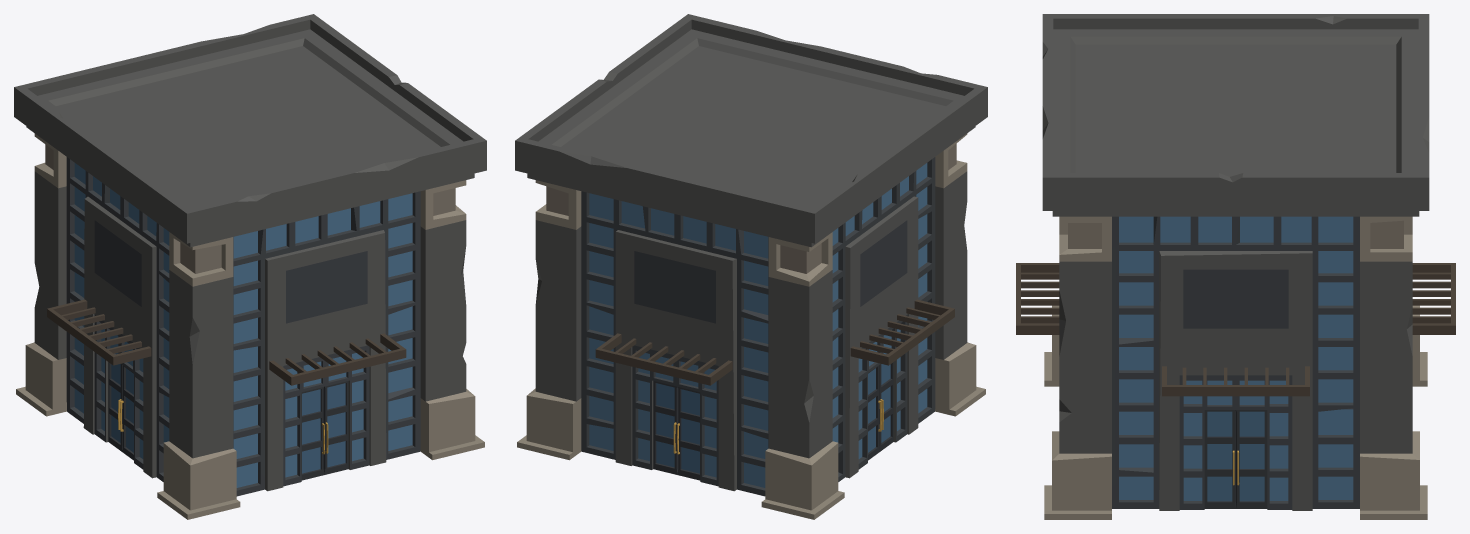
Rendered from SM_Bld_Station_01.glb.
The picture shows the model from 3 angles, left to right: view 1: azimuth 30°, elevation 25°; view 2: azimuth 150°, elevation 25°; view 3: azimuth 270°, elevation 25°; orthographic projection. The views are drawn at different scales.
Parts seen in each view (by area): view 1: SM_Bld_Station_01; view 2: SM_Bld_Station_01; view 3: SM_Bld_Station_01.
Boxes of the visible parts, <box> form: SM_Bld_Station_01: <box>14,14,486,519</box>; SM_Bld_Station_01: <box>515,14,987,519</box>; SM_Bld_Station_01: <box>1016,14,1455,519</box>.
Bounding box in the file's own units: 0.0997 × 0.0858 × 0.0997.
1 material, 1 textured.
